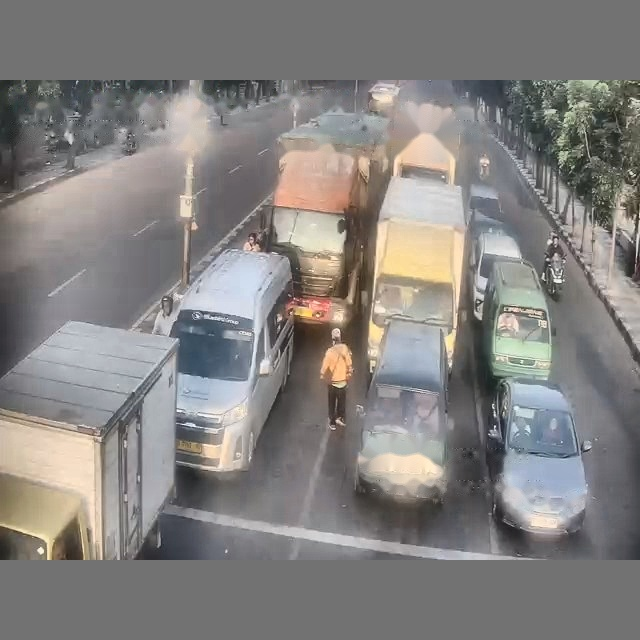Mobil: (486, 378, 591, 535), (469, 232, 521, 321)
Motor: (544, 253, 565, 300), (122, 136, 136, 155)
Truk: (0, 321, 177, 559), (368, 176, 466, 374), (262, 145, 367, 327), (392, 133, 456, 184)
